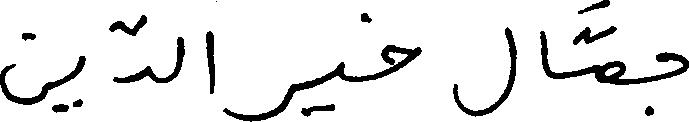X: (455, 22, 514, 121), (0, 28, 49, 109), (116, 10, 149, 87), (599, 0, 625, 89), (245, 79, 295, 121), (383, 40, 421, 81), (657, 47, 688, 85), (75, 51, 86, 111), (334, 57, 345, 114), (206, 26, 214, 98), (174, 32, 185, 82), (541, 26, 549, 81)
